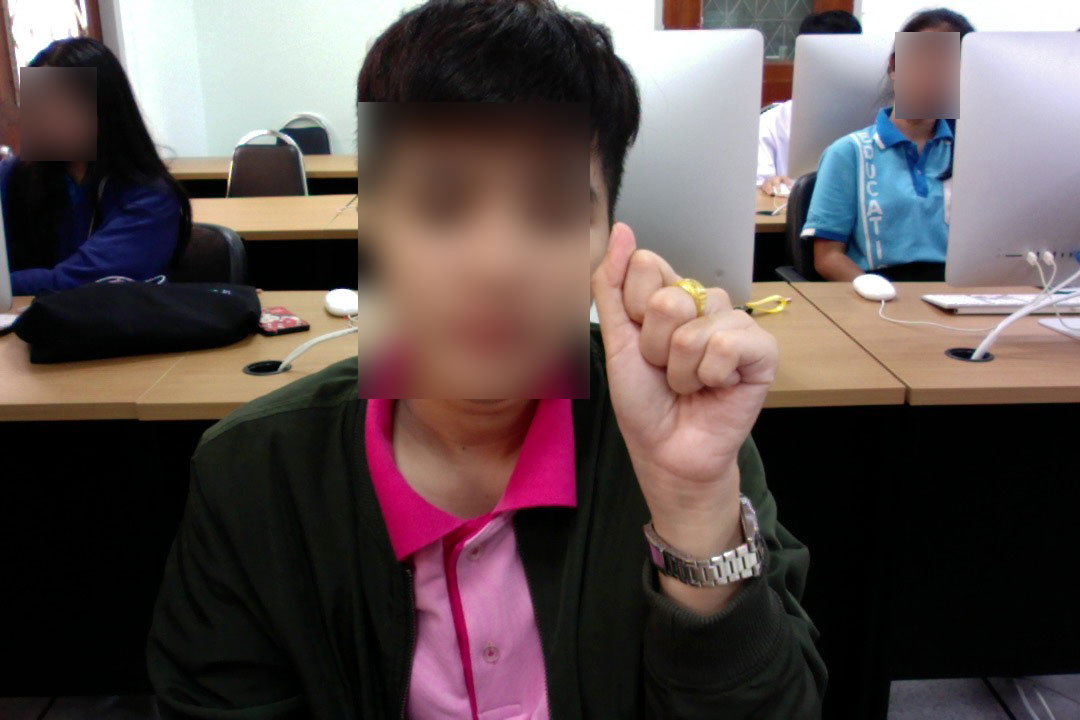or: (582, 209, 784, 485)
